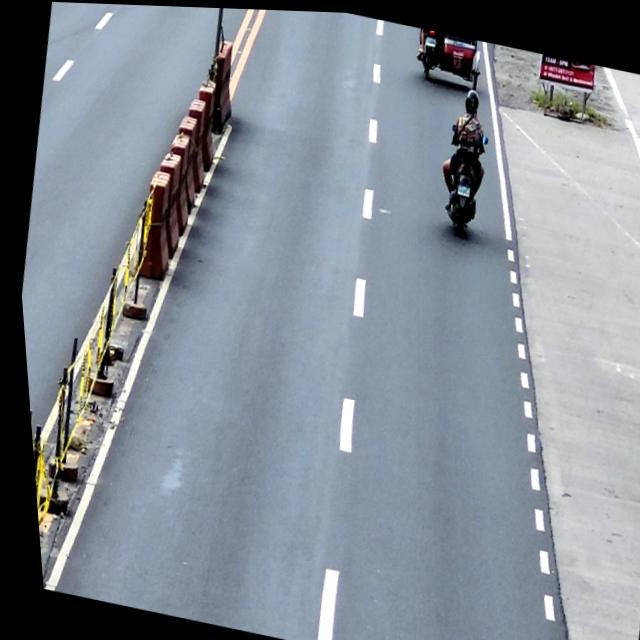License-Plate: (453, 179, 469, 194), (423, 33, 436, 45)
Motorcycle: (430, 116, 494, 237)
Tricycle: (410, 24, 487, 93)
